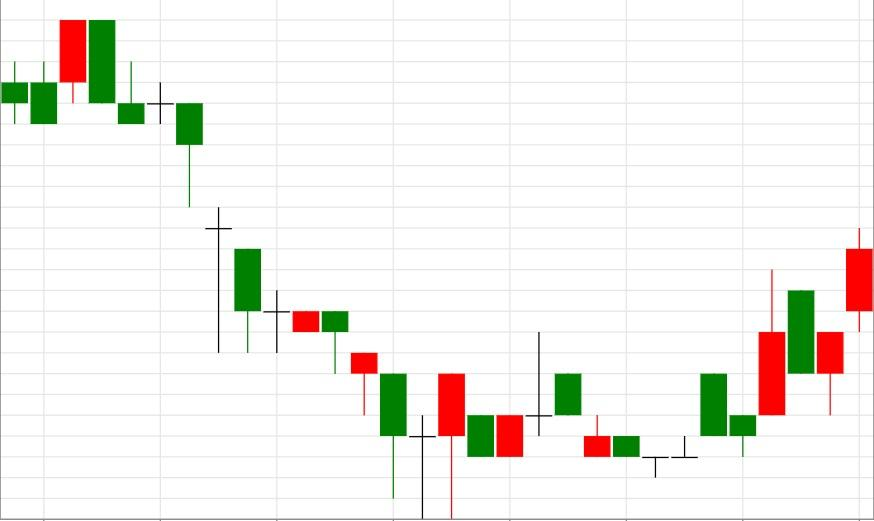bearish_engulfing_fall: (0, 19, 116, 124)
hammer_rise: (59, 19, 349, 374)
morning_star_rise: (59, 19, 466, 519)
